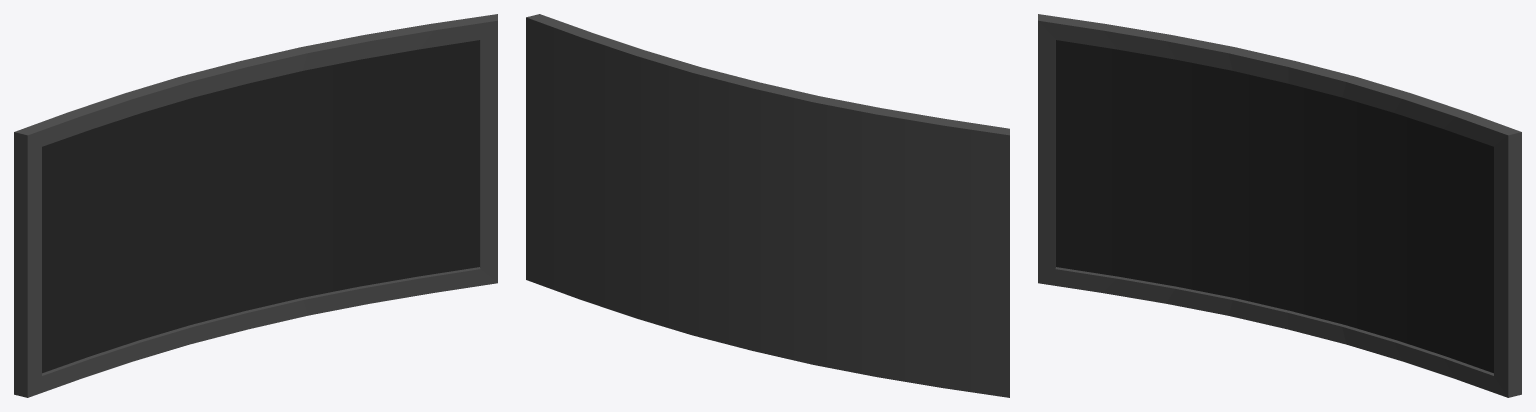
The model's file is Itr_Obj_Monitor_LCD_Curved_Screen_Off_05.FBX.
3 views of the same model, side by side, from view 1: azimuth 30°, elevation 25°; view 2: azimuth 150°, elevation 25°; view 3: azimuth 330°, elevation 25° (orthographic).
Visible parts, largest first — view 1: Itr_Obj_Monitor_LCD_Curved_Screen_Off_05; view 2: Itr_Obj_Monitor_LCD_Curved_Screen_Off_05; view 3: Itr_Obj_Monitor_LCD_Curved_Screen_Off_05.
Boxes of the visible parts, left/top/right/bottom form: Itr_Obj_Monitor_LCD_Curved_Screen_Off_05: left=14, top=14, right=497, bottom=397; Itr_Obj_Monitor_LCD_Curved_Screen_Off_05: left=526, top=14, right=1009, bottom=397; Itr_Obj_Monitor_LCD_Curved_Screen_Off_05: left=1038, top=14, right=1521, bottom=397.
Bounding box in the file's own units: 67.75 × 35.13 × 5.58.
